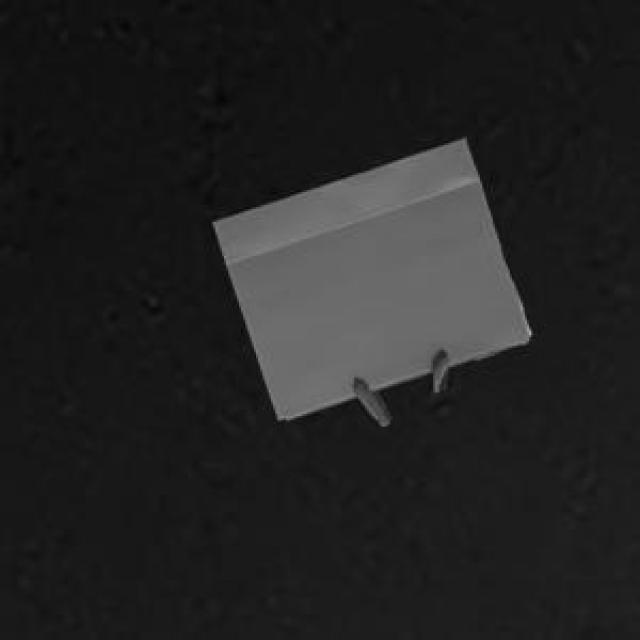paper: (209, 134, 527, 422)
